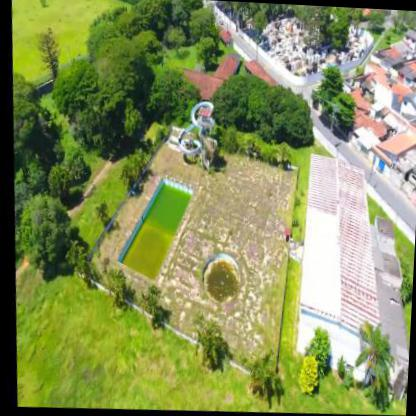agua: (126, 194, 192, 265), (199, 252, 240, 306)
